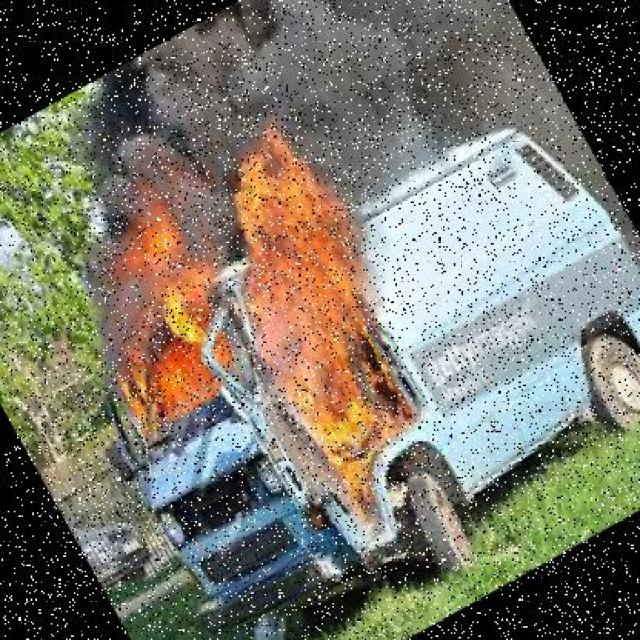fire: (165, 120, 468, 505), (20, 160, 289, 465)
